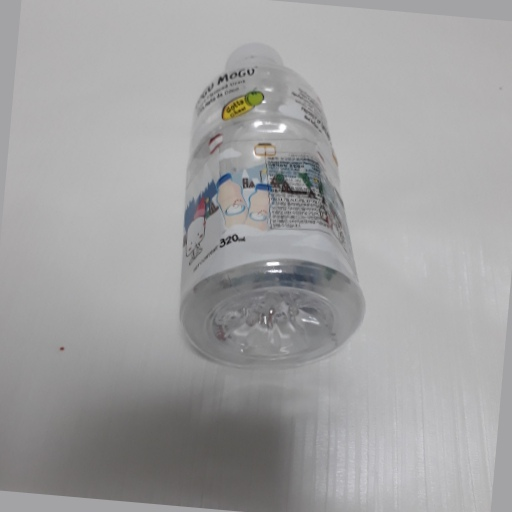Plastic_0: (179, 41, 366, 367)
